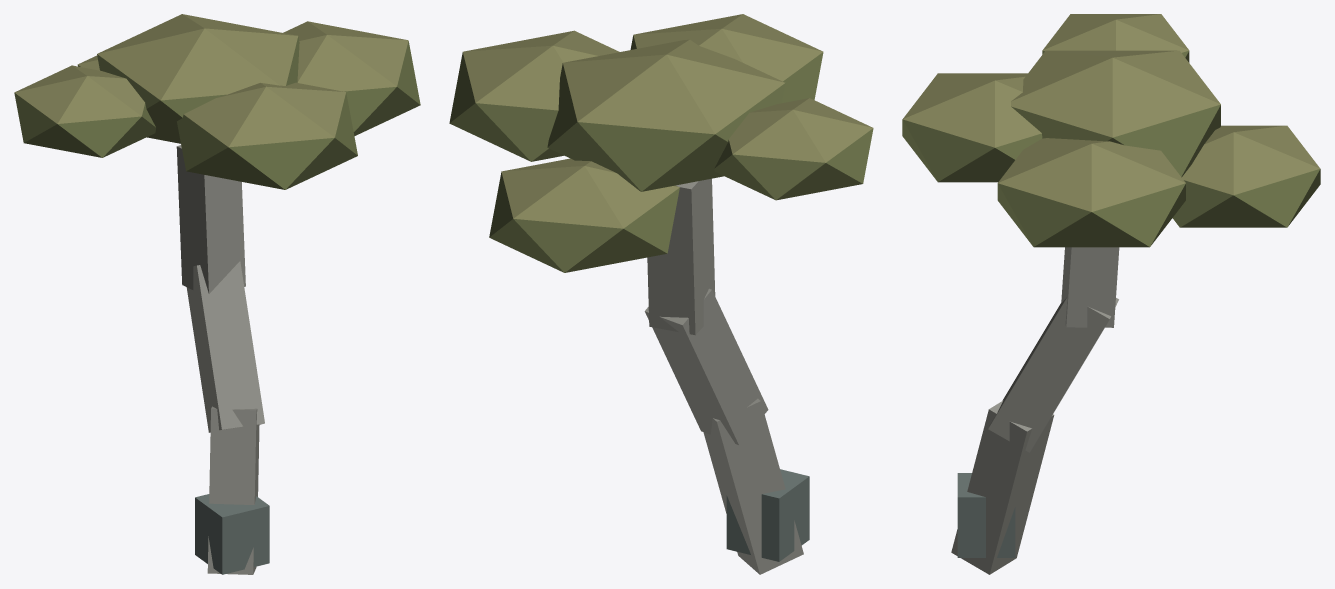
The model's file is SM_Pino_v2_LOD1.fbx.
3 renders of one model, left to right at view 1: azimuth 30°, elevation 25°; view 2: azimuth 150°, elevation 25°; view 3: azimuth 270°, elevation 25°, orthographic. The views are drawn at different scales.
Parts seen in each view (by area): view 1: SM_pino_v2_LOD1; view 2: SM_pino_v2_LOD1; view 3: SM_pino_v2_LOD1.
Boxes of the visible parts, left/top/right/bottom form: SM_pino_v2_LOD1: left=14, top=14, right=420, bottom=574; SM_pino_v2_LOD1: left=449, top=14, right=873, bottom=574; SM_pino_v2_LOD1: left=902, top=14, right=1320, bottom=574.
Bounding box in the file's own units: 6.8 × 8.6 × 6.26.
